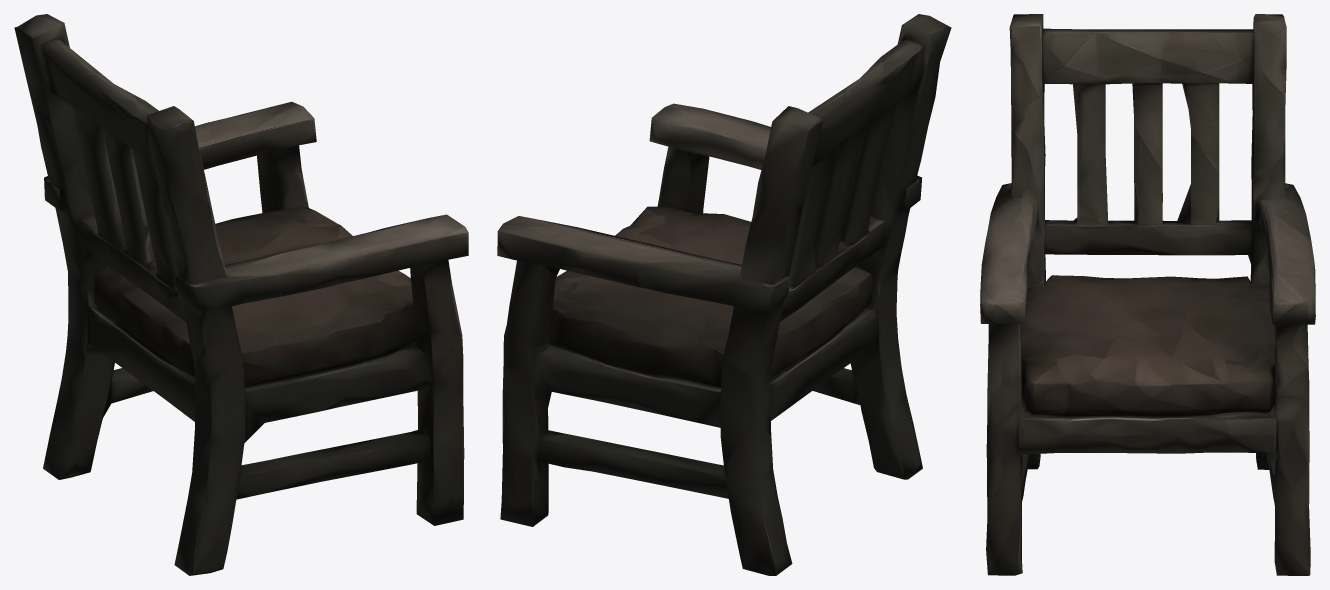
Rendered from wooden+chair+3d+model (1).glb.
3 renders of one model, left to right at view 1: azimuth 30°, elevation 25°; view 2: azimuth 150°, elevation 25°; view 3: azimuth 270°, elevation 25°, orthographic. The views are drawn at different scales.
Parts seen in each view (by area): view 1: tripo_node_ed20fe28-7da6-413d-8a05-44e6923bc095; view 2: tripo_node_ed20fe28-7da6-413d-8a05-44e6923bc095; view 3: tripo_node_ed20fe28-7da6-413d-8a05-44e6923bc095.
Part boxes in pixels (left/top/right/bottom): tripo_node_ed20fe28-7da6-413d-8a05-44e6923bc095: left=14, top=14, right=468, bottom=575; tripo_node_ed20fe28-7da6-413d-8a05-44e6923bc095: left=497, top=14, right=951, bottom=575; tripo_node_ed20fe28-7da6-413d-8a05-44e6923bc095: left=980, top=14, right=1315, bottom=575.
Bounding box in the file's own units: 0.6879 × 1 × 0.7027.
1 material, 1 textured.
